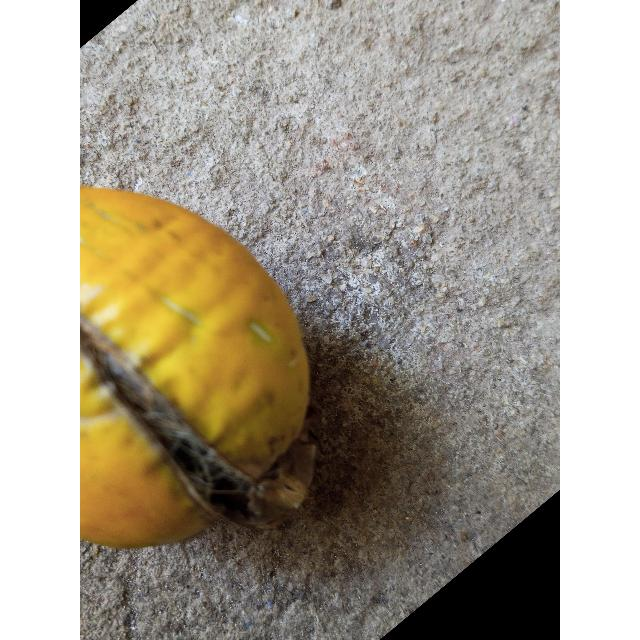damaged: (80, 185, 316, 551)
